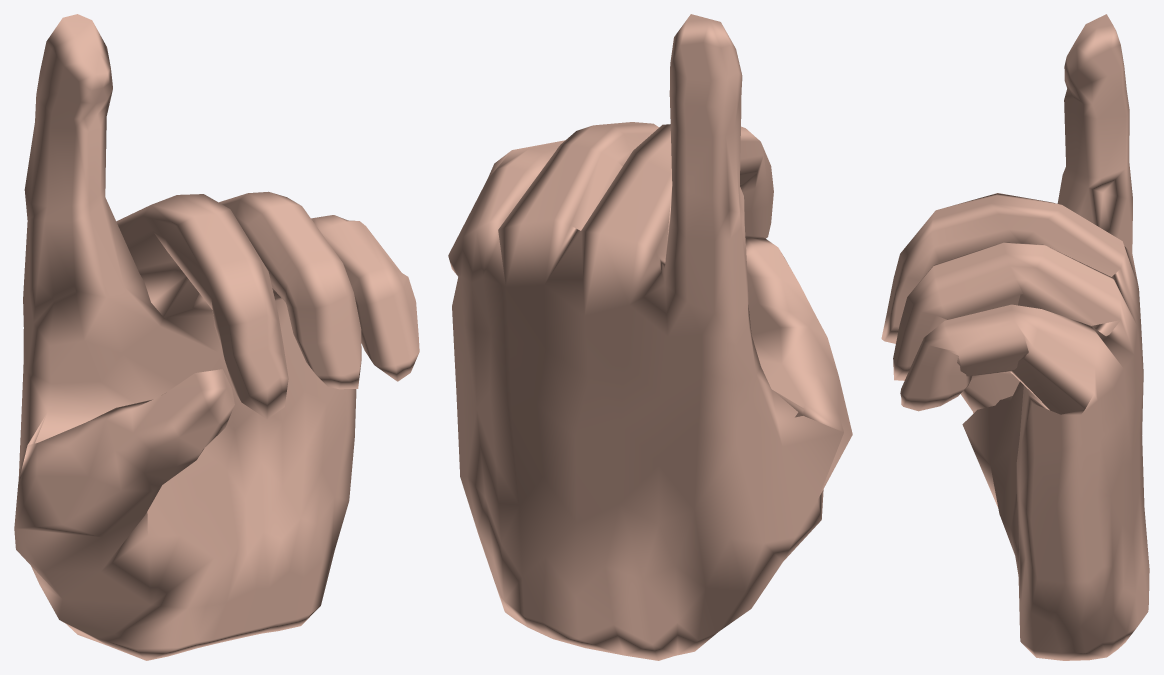
The model's file is MAO_D.obj.
3 renders of one model, left to right at view 1: azimuth 30°, elevation 25°; view 2: azimuth 150°, elevation 25°; view 3: azimuth 270°, elevation 25°, orthographic. The views are drawn at different scales.
Visible parts, largest first — view 1: mao_dir polySurface1; view 2: mao_dir polySurface1; view 3: mao_dir polySurface1.
Boxes of the visible parts, x1,y1,x2,y2 form: mao_dir polySurface1: [14, 14, 419, 660]; mao_dir polySurface1: [448, 14, 852, 660]; mao_dir polySurface1: [881, 14, 1149, 660].
Bounding box in the file's own units: 134 × 227 × 98.8.
